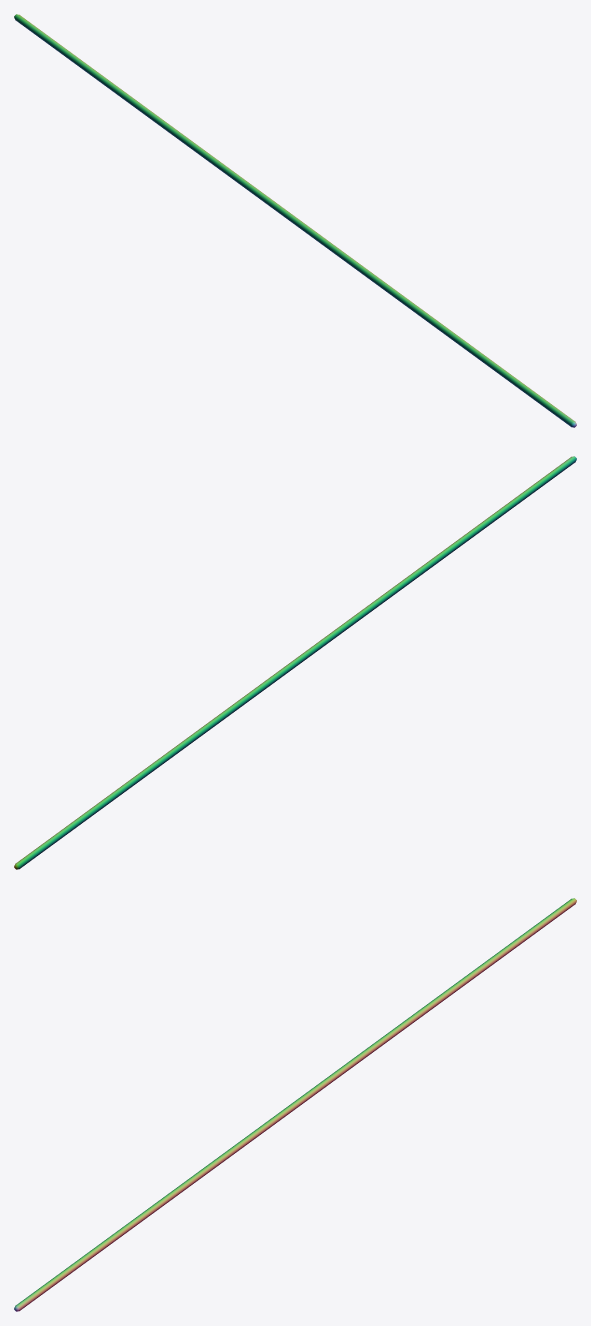
The model's file is zeometry-basic-shapes-line_v6.glb.
3 views of the same model, one above another, from view 1: azimuth 30°, elevation 25°; view 2: azimuth 150°, elevation 25°; view 3: azimuth 330°, elevation 25° (orthographic).
Visible parts, largest first — view 1: Line_v6; view 2: Line_v6; view 3: Line_v6.
Boxes of the visible parts, left/top/right/bottom form: Line_v6: left=14, top=14, right=576, bottom=427; Line_v6: left=14, top=456, right=576, bottom=869; Line_v6: left=14, top=898, right=576, bottom=1311.
Size of the model in its own units: 0.00287 by 0.00287 by 0.5.
